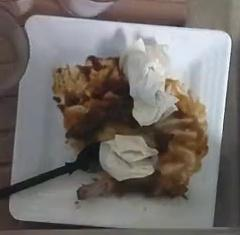carrots: (53, 56, 141, 145)
